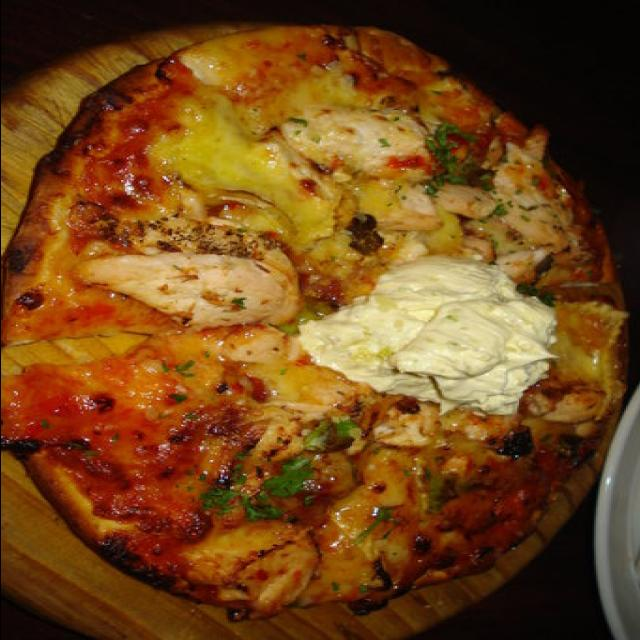pizza: (0, 25, 626, 612)
